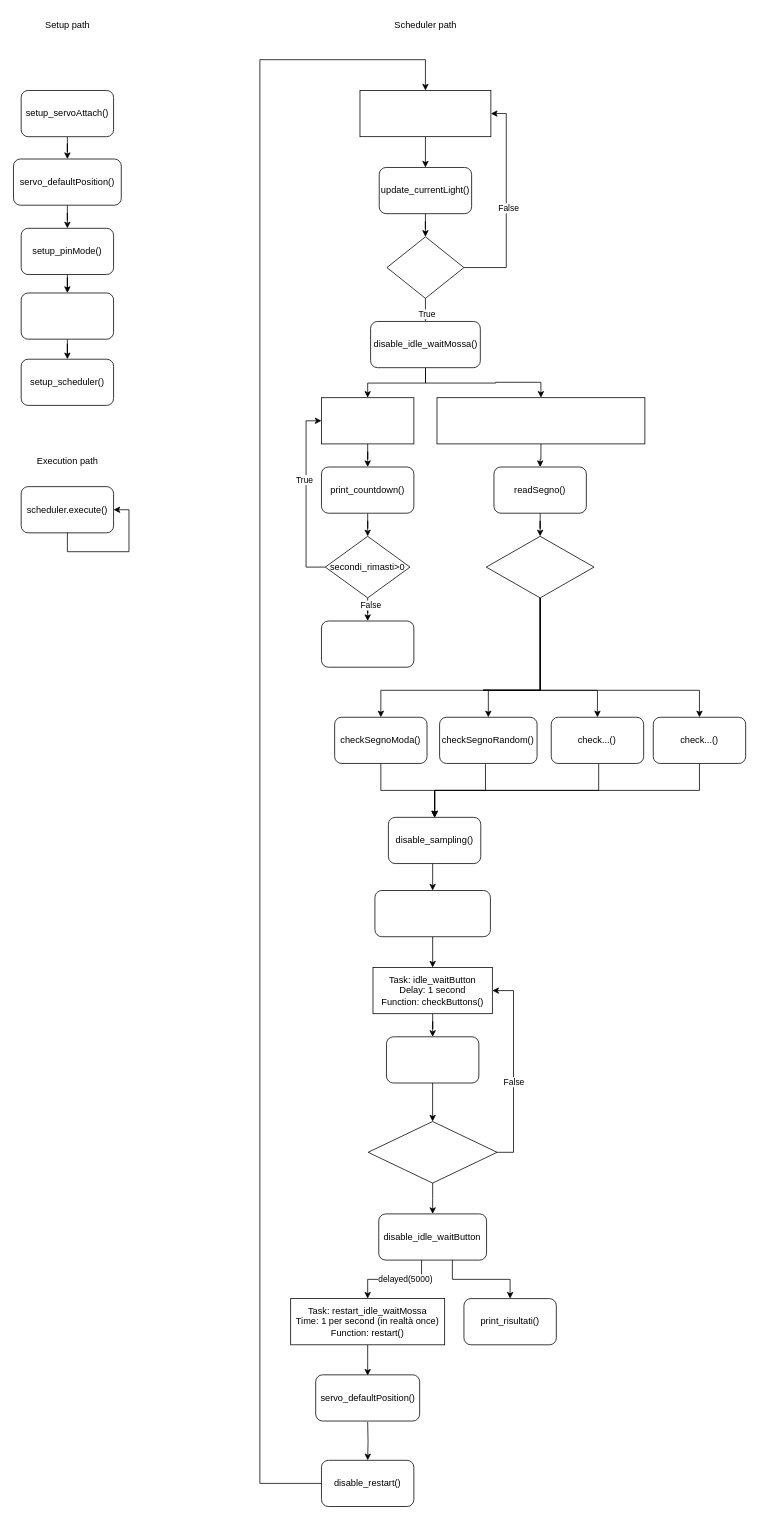
This 759x1520 diagram has some shape labels left out. The shapes that lost their labels are listed below. From the top down, each one's centre as x and y in pixels, then its label:
point 425,113: Task: idle_waitMossa Delay: 1 second Function: checkidle_waitMossa
point 425,267: checkPalmo()
point 67,315: setup_maxLight()
point 367,420: Task: countdown Delay: 1 second
point 540,420: Task: sampling Delay: (secondi_countdown/taglia_campione)*1secondo
point 539,567: rilevazioni_rimaste>0
point 367,643: disable_countdown()
point 432,913: enable_idle_waitButton()
point 432,1059: checkButtons()
point 432,1152: sasso==1 XOR forbice ==1 XOR carta==1
